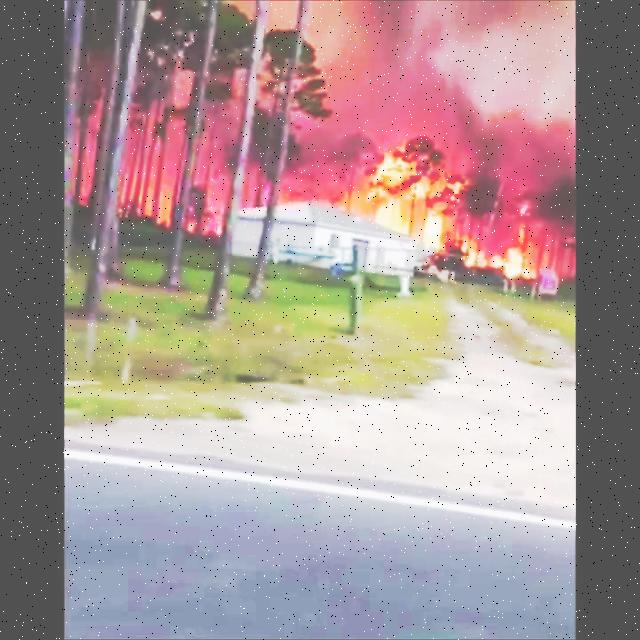api: (372, 165, 536, 285)
asap: (401, 2, 579, 186)
